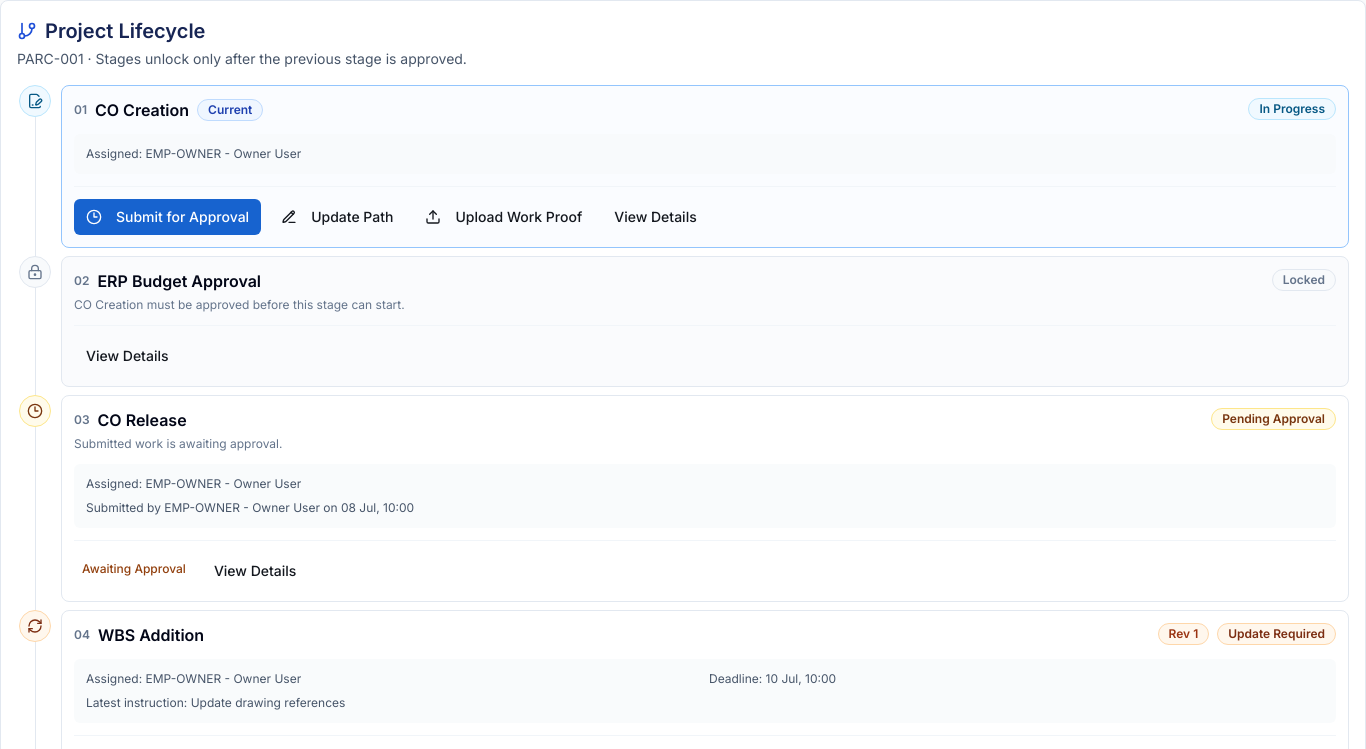
ControlWorkflowSection › renders the Control Design workflow tree and owner actions without reviewer controls
Expected: the heading "Project Lifecycle" is shown, [45,17,206,45]
Expected: the text "CO Creation" is shown, [95,98,189,122]
Click the button "Submit for Approval" at (168, 217), box [74,199,261,235]
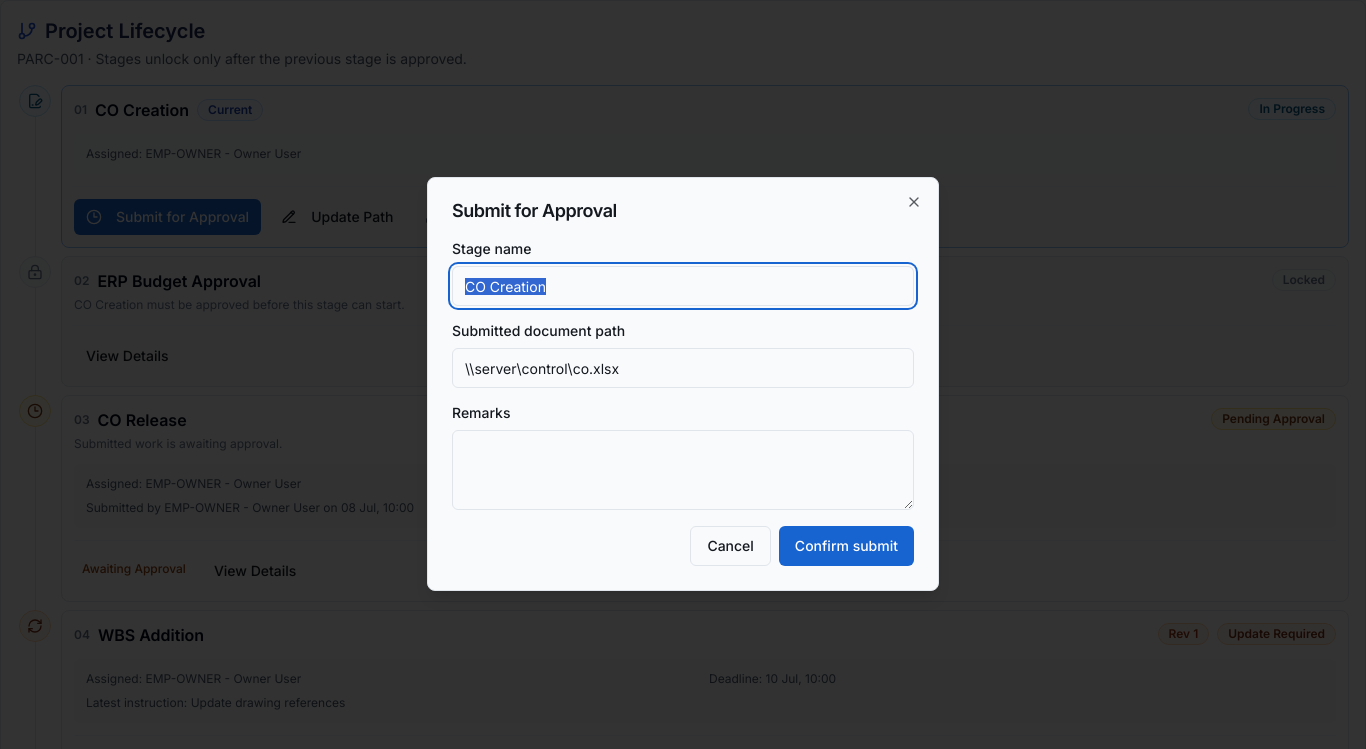
Now the heading "Submit for Approval" is shown, box [452,200,617,221]
Now the field labelled "Submitted document path" holds "\\\\server\\control\\co.xlsx", box [452,348,914,388]
